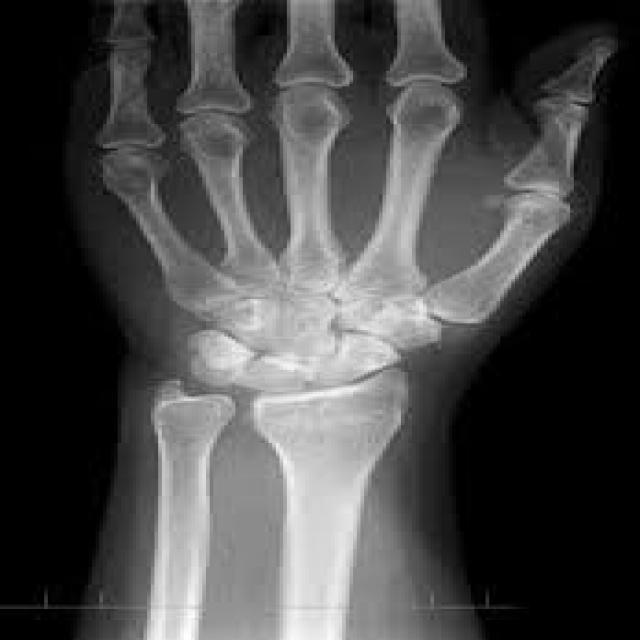Impacted: (122, 256, 452, 444)
